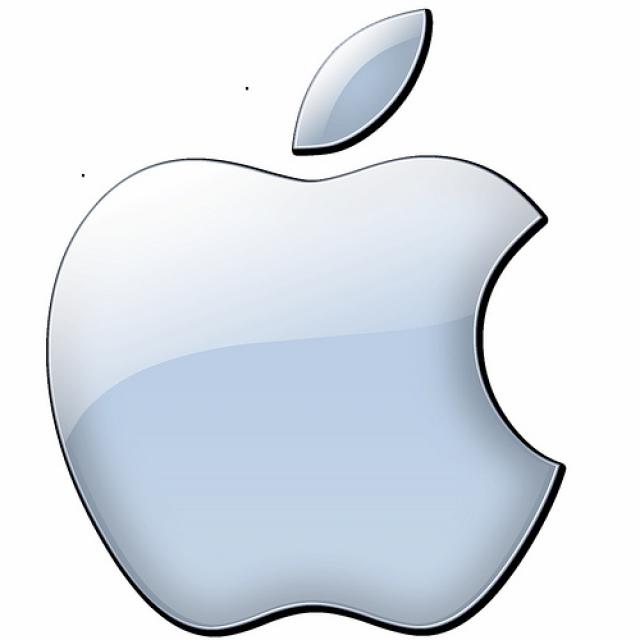apple: (23, 2, 606, 640)
